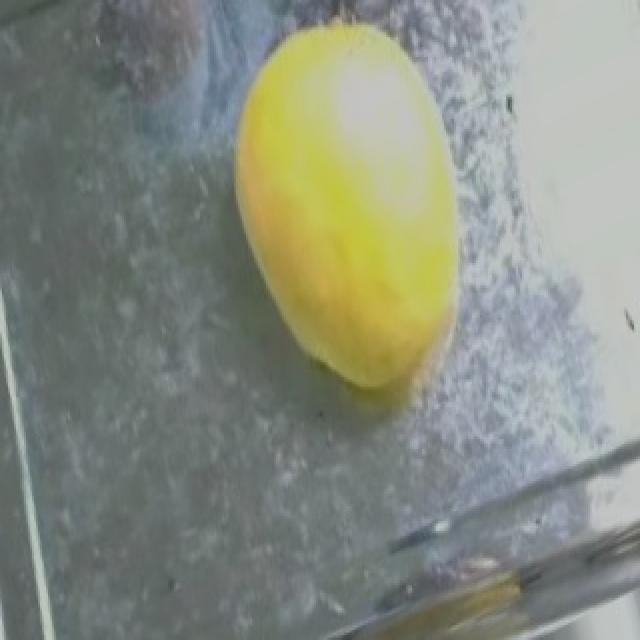fruit: (202, 5, 542, 419)
